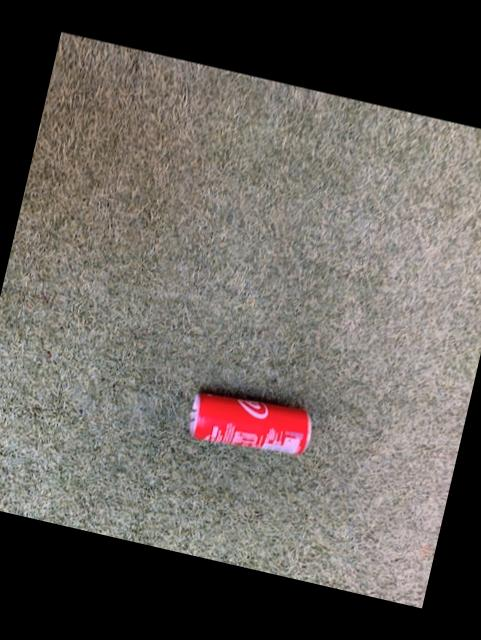metal: (190, 392, 311, 452)
